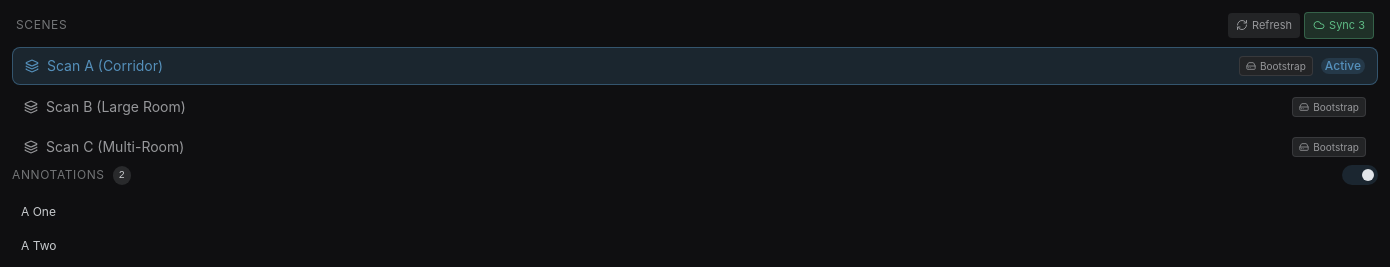
Test: browser annotation manager › shows seeded annotations and updates count by scene switch
Expected: the text "A One" is shown, [21, 204, 56, 219]
Expected: the text with test id "annotation-count-badge" reads "2", [119, 170, 125, 181]
Click the button with test id "scene-item-scan-b" at (116, 106), box [12, 89, 1378, 125]
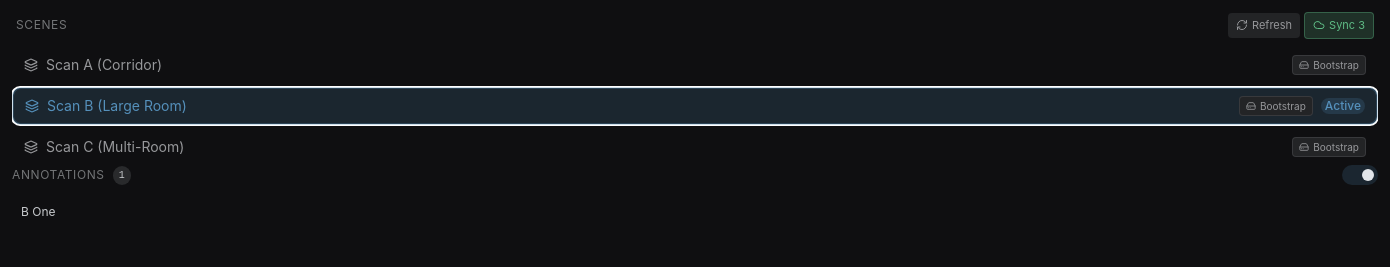
Expected: the text "B One" is shown, [21, 204, 56, 219]
Expected: the text with test id "annotation-count-badge" reads "1", [119, 170, 125, 181]
